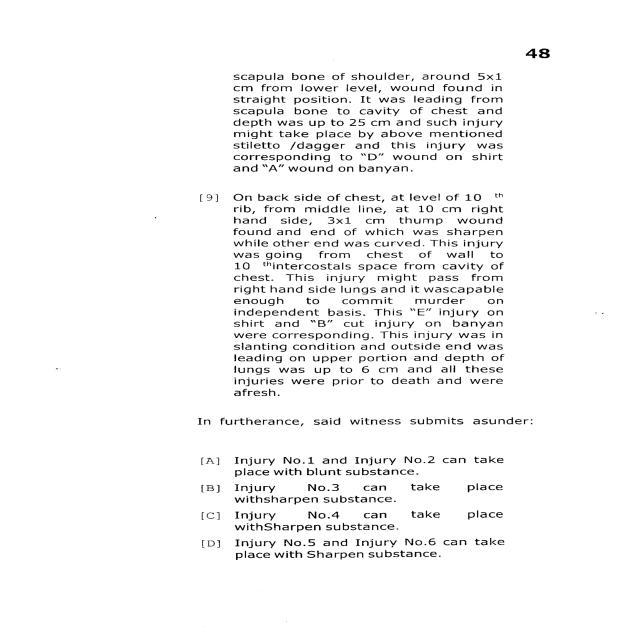page-number: (442, 0, 638, 69)
